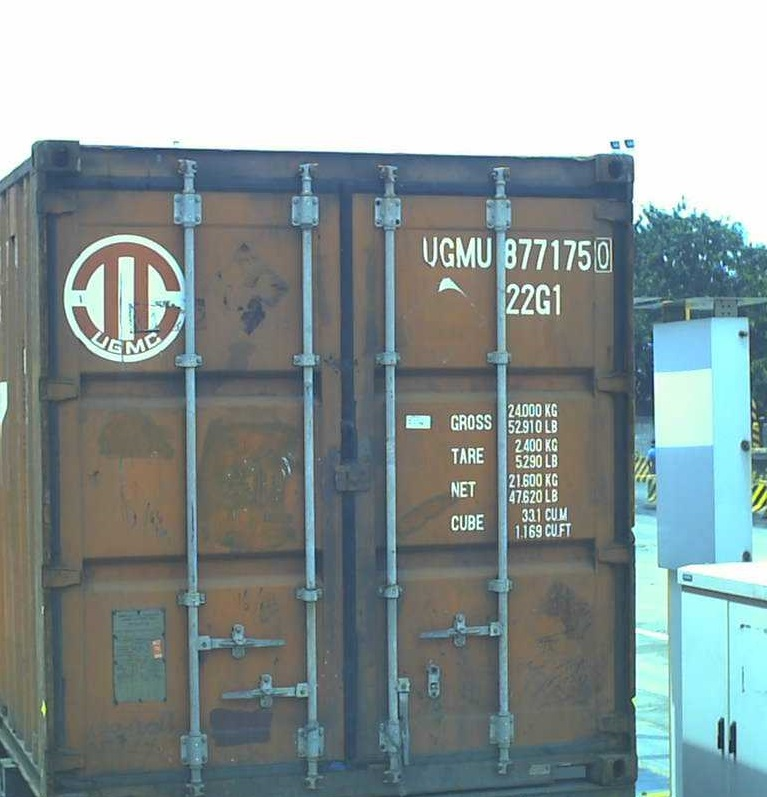container_door: (39, 138, 643, 797)
